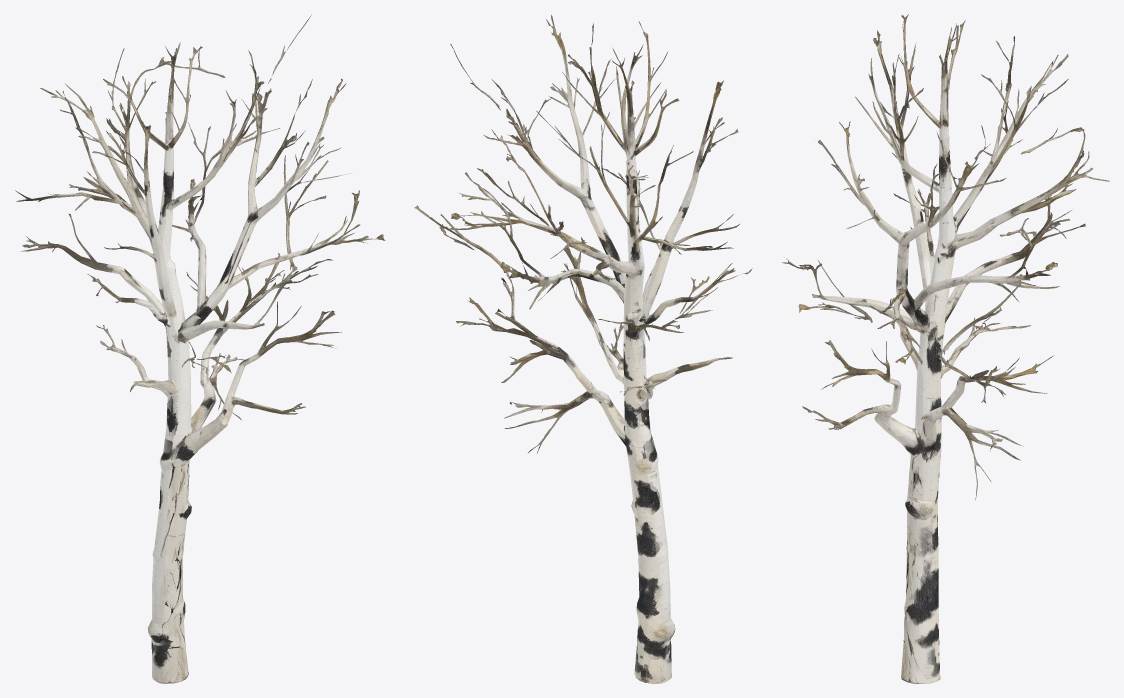
File: tree_birch.glb
3 views of the same model, side by side, from view 1: azimuth 30°, elevation 25°; view 2: azimuth 150°, elevation 25°; view 3: azimuth 270°, elevation 25° (orthographic). The views are drawn at different scales.
Size of the model in its own units: 0.9031 by 1.69 by 0.7437.
1 material, 1 textured.
